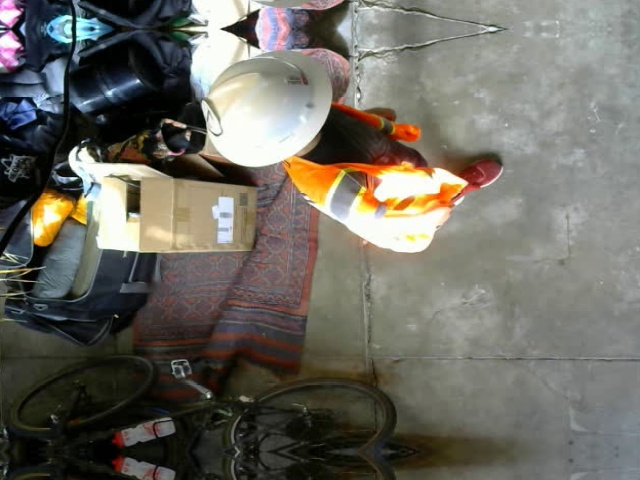one: (200, 99, 221, 135)
